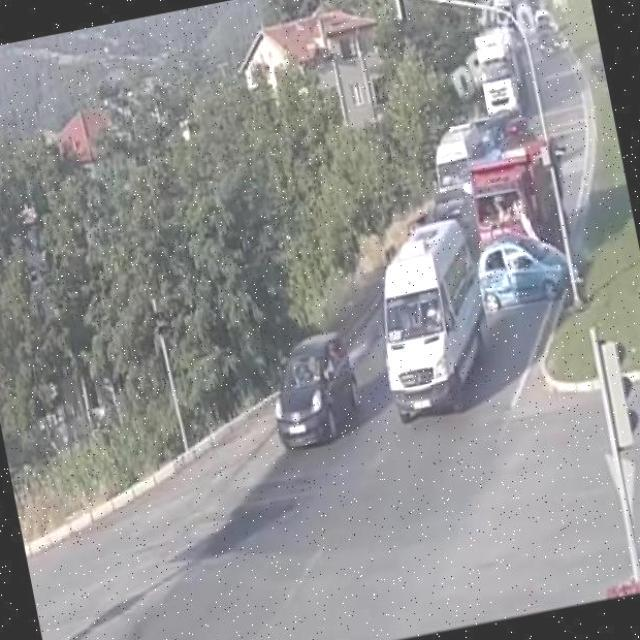accident: (456, 150, 577, 320)
